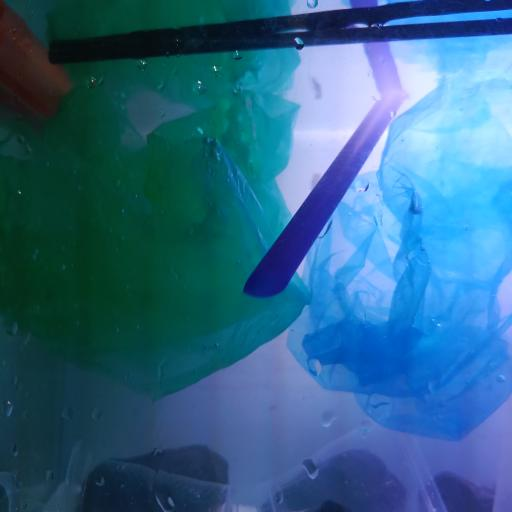plastic_bag: (12, 6, 306, 399), (297, 32, 512, 437)
plastic_cup: (252, 411, 449, 512), (60, 442, 234, 512), (0, 469, 53, 512)
plastic_straw: (242, 98, 407, 300), (45, 18, 512, 64)
